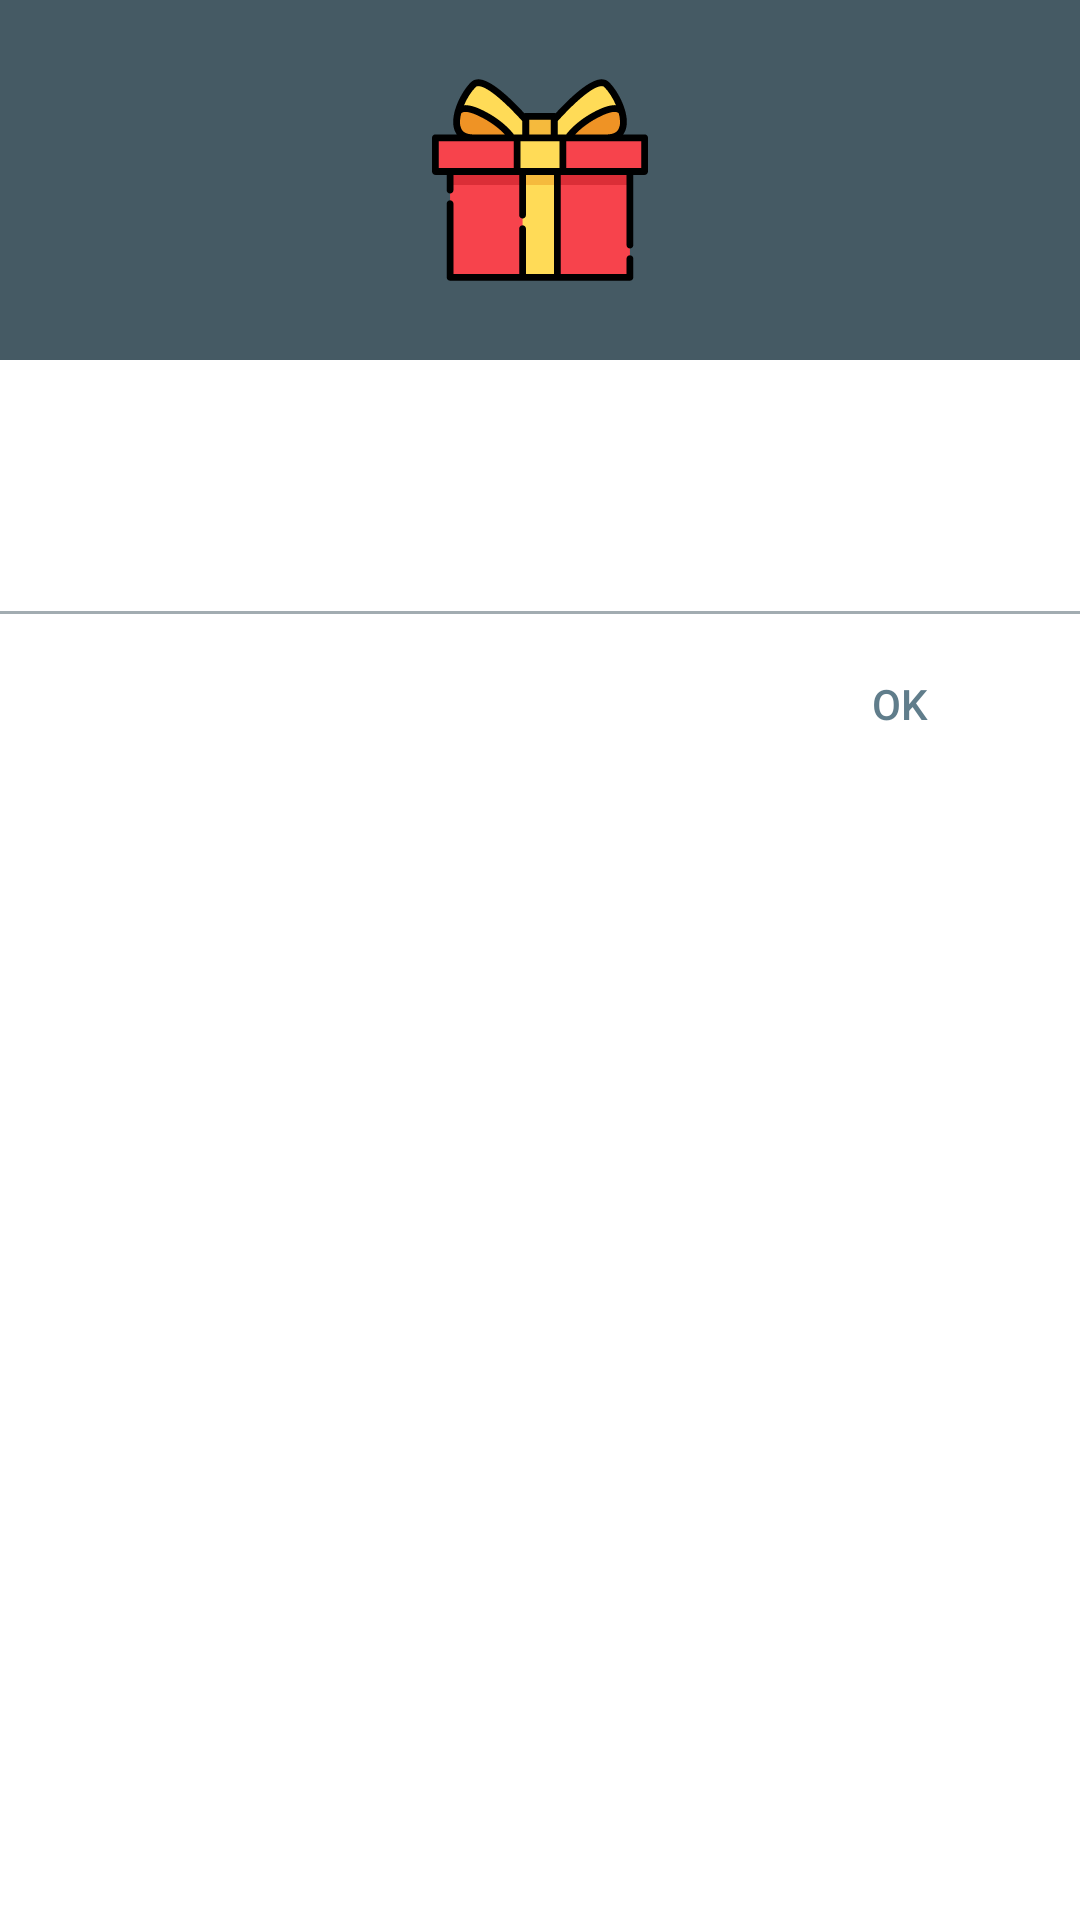

Where to tap for icons on this 1080×1920 app screen, as (x,y):
gift: (540,180)
